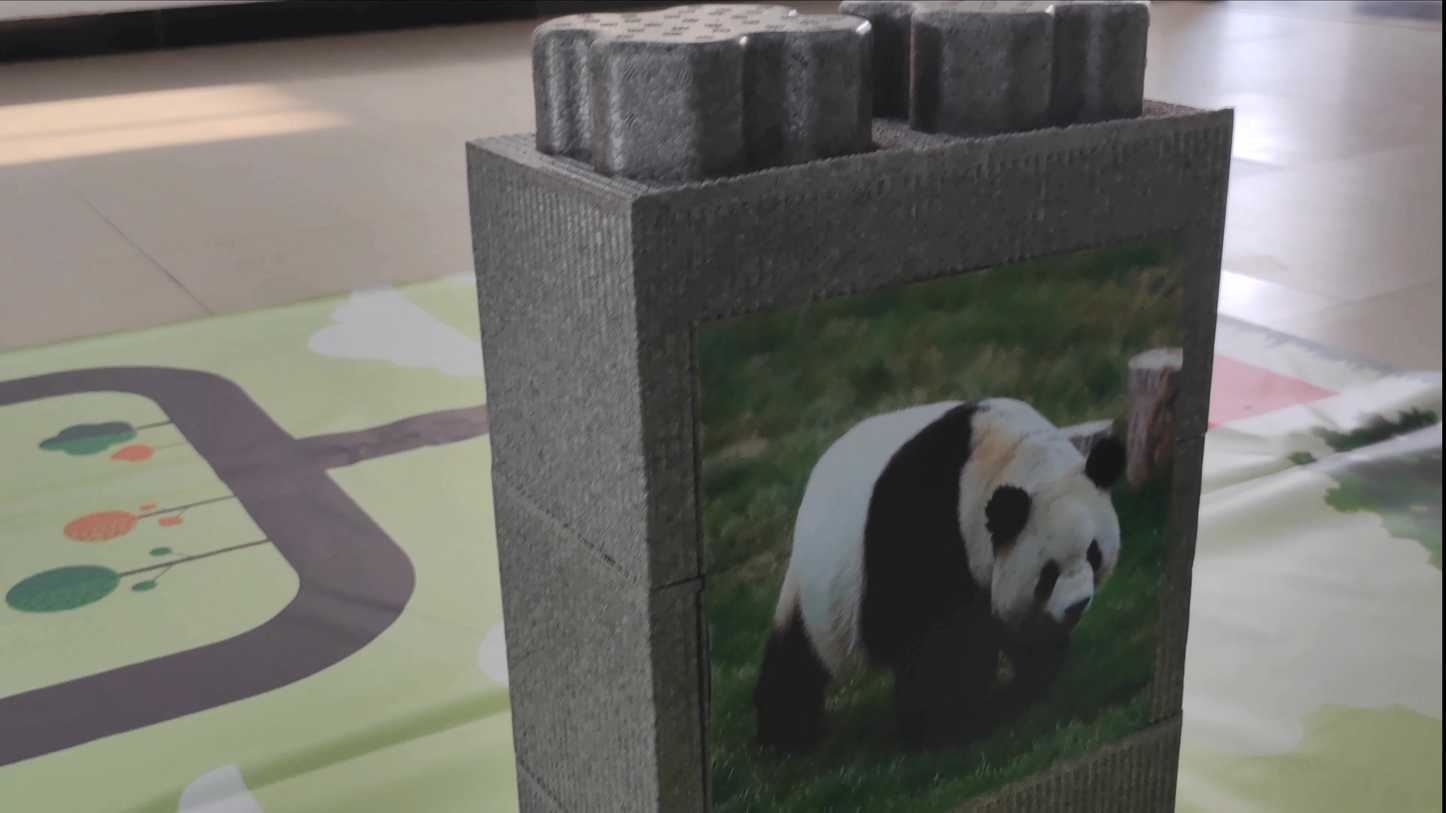panda: (732, 354, 1135, 748)
